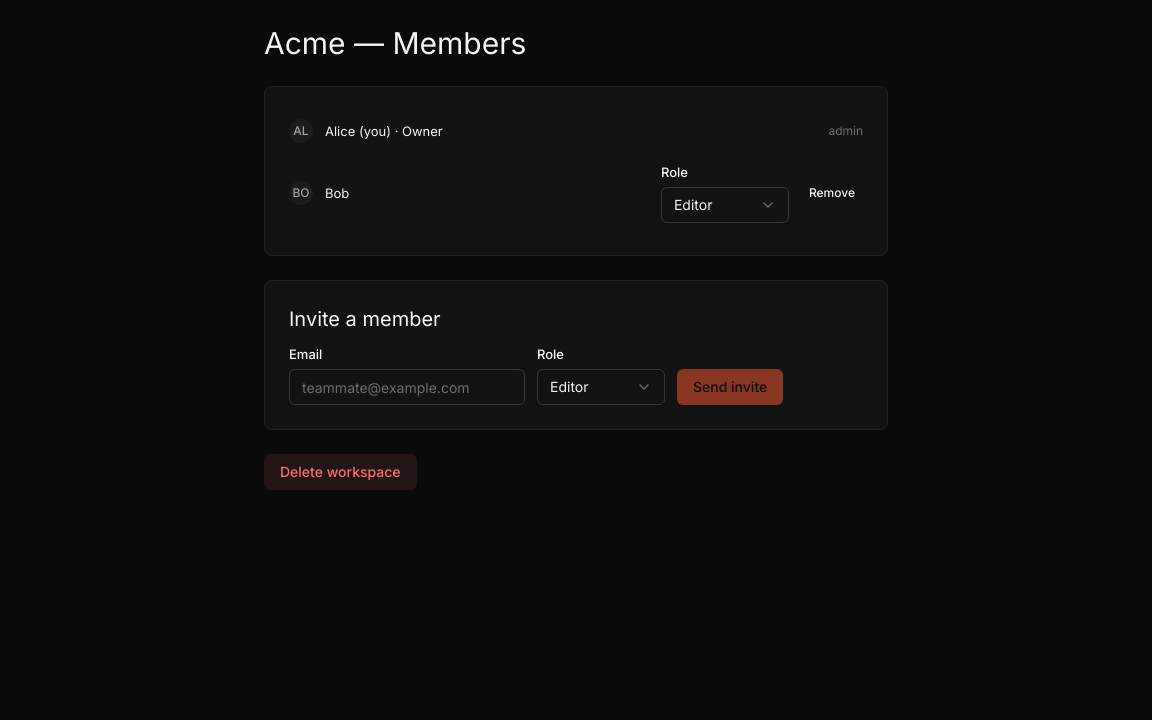
Test: MembersClient › sends an invite as an admin
The width and height of the screenshot is (1152, 720).
Type "new@example.com" into the field labelled "Email" at [407, 387], box x1=289 y1=369 x2=525 y2=405
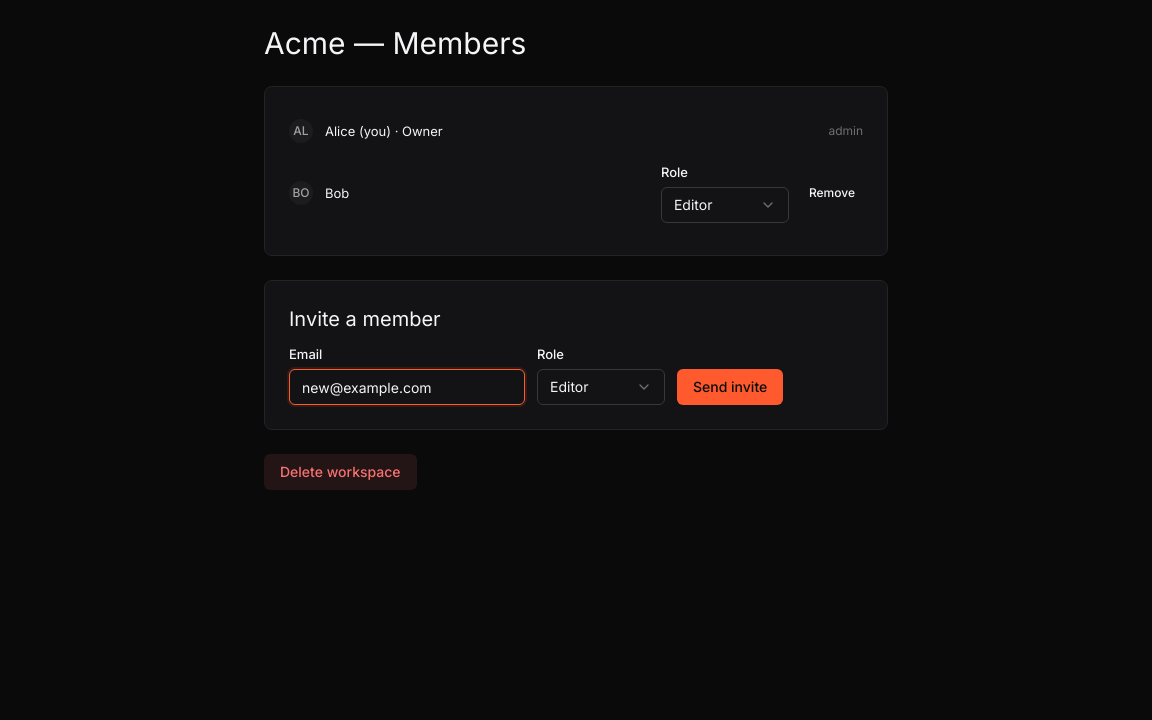
Click the button "Send invite" at [730, 387], box x1=677 y1=369 x2=783 y2=405
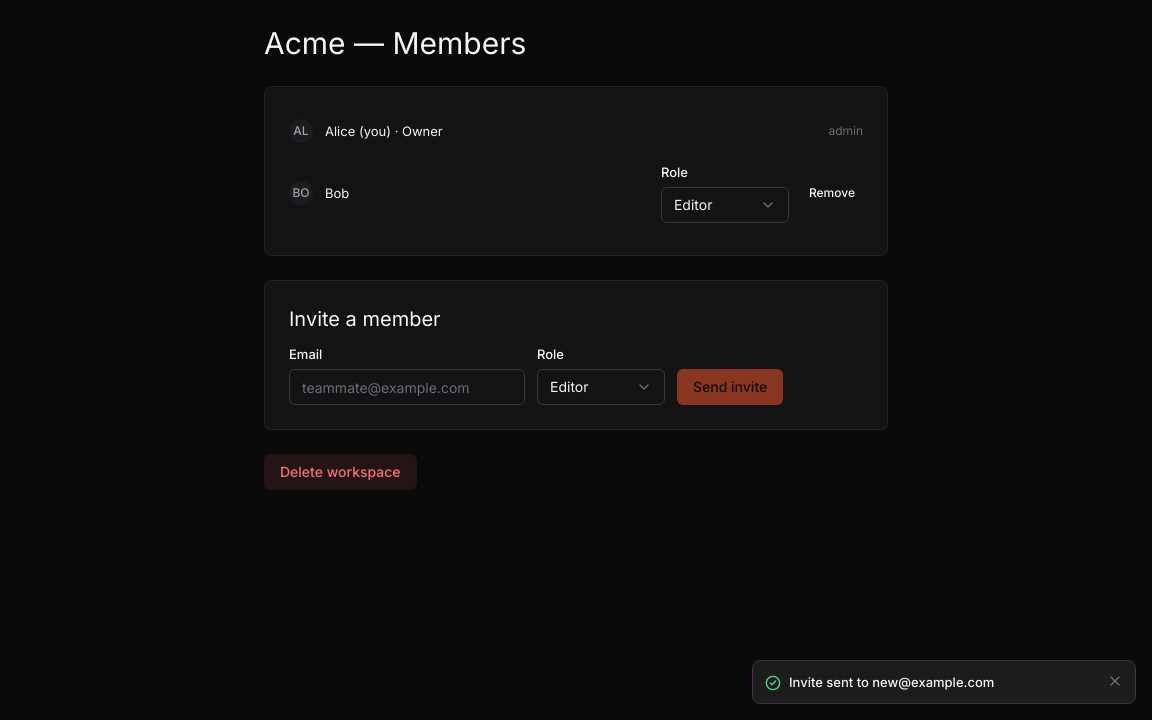
Check: the text "Invite sent to new@example.com" is shown, box x1=789 y1=674 x2=994 y2=690
